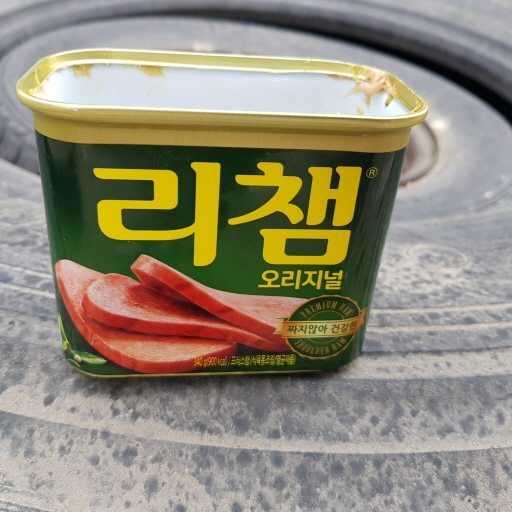Metal_2: (14, 50, 429, 379)
